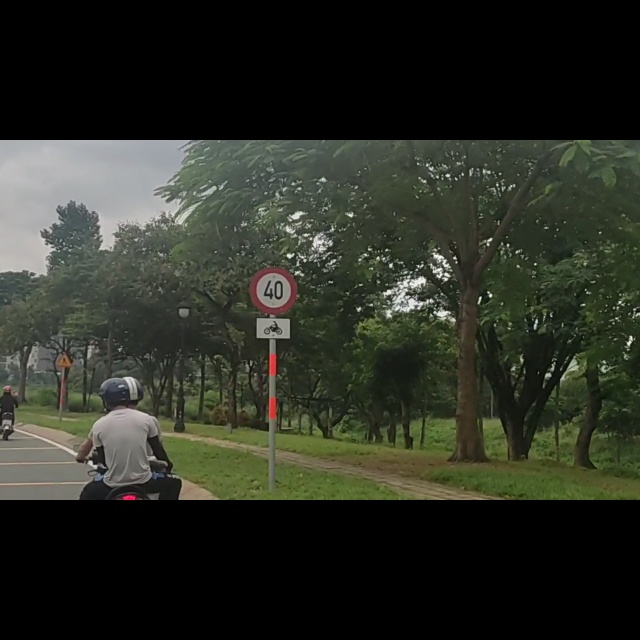bien_nguy_hiem: (251, 226, 298, 311), (57, 376, 73, 403)
